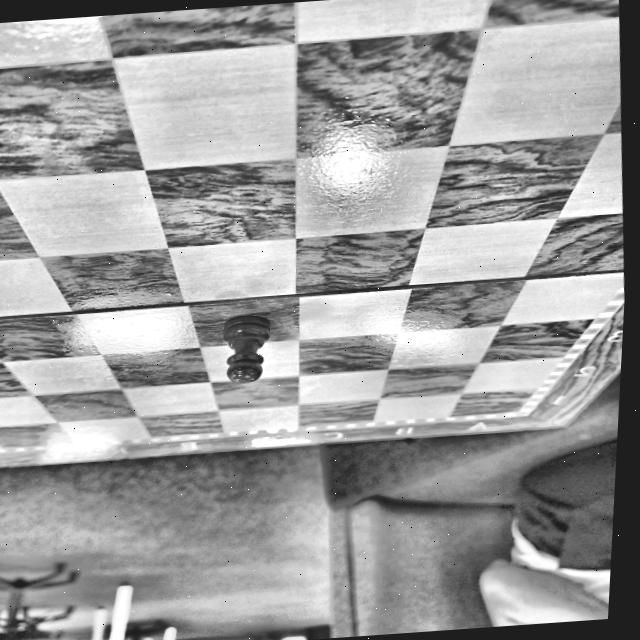black-pawn: (222, 314, 269, 382)
